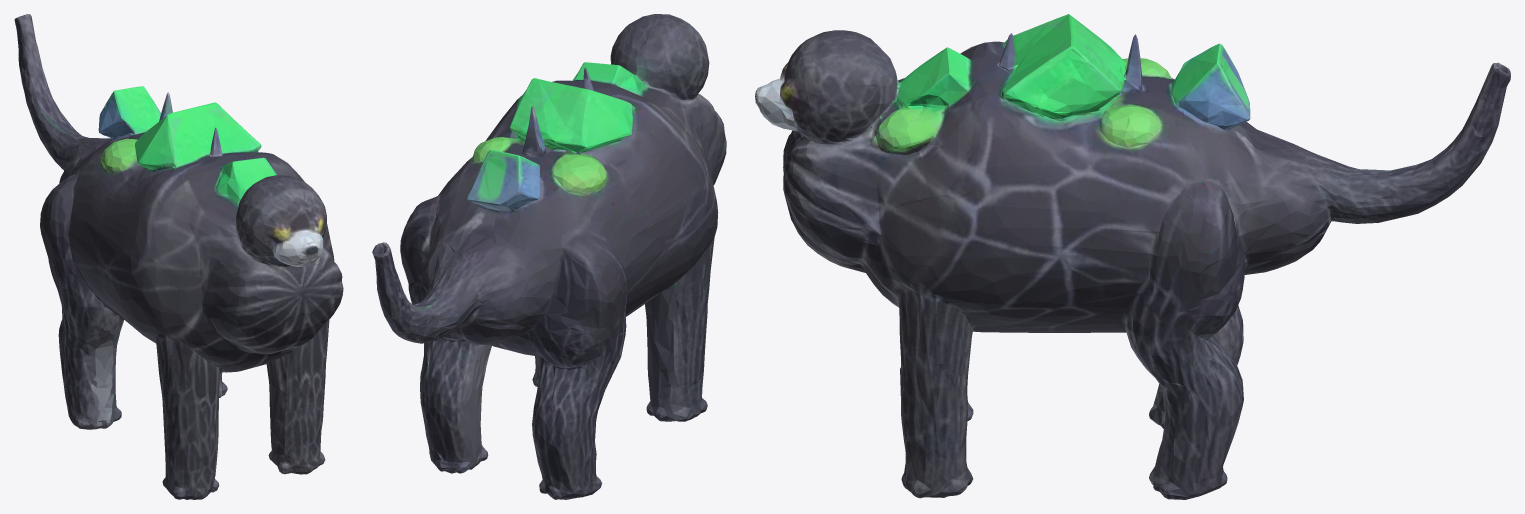
File: creature-101.lod.glb
3 views of the same model, side by side, from view 1: azimuth 30°, elevation 25°; view 2: azimuth 150°, elevation 25°; view 3: azimuth 270°, elevation 25° (orthographic). The views are drawn at different scales.
Parts seen in each view (by area): view 1: tmpzxxnqogl.ply; view 2: tmpzxxnqogl.ply; view 3: tmpzxxnqogl.ply.
Boxes of the visible parts, <box> form: tmpzxxnqogl.ply: <box>14,14,343,499</box>; tmpzxxnqogl.ply: <box>372,14,726,499</box>; tmpzxxnqogl.ply: <box>755,14,1510,499</box>.
Bounding box in the file's own units: 0.7756 × 1.25 × 1.99.
Materials: 1 (1 with a texture image).
